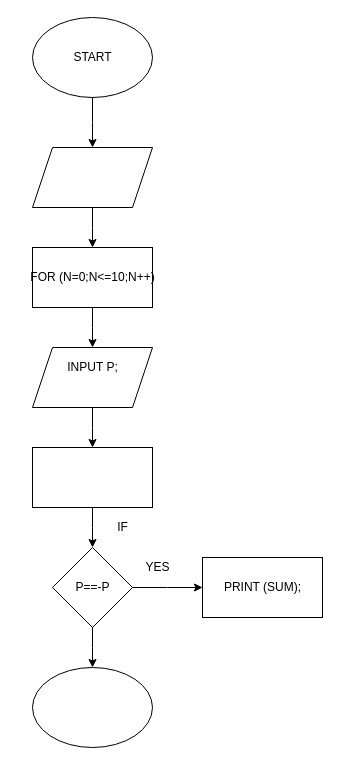
This 340x765 diagram has some shape labels left out. The shapes that lost their labels are listed below. From the top down, each one's centre as x and y in pixels, then its label:
At point 92,177: "INT N, SUM=0, P;".
At point 92,477: "LET SUM=SUM+P;".
At point 92,707: "END".
